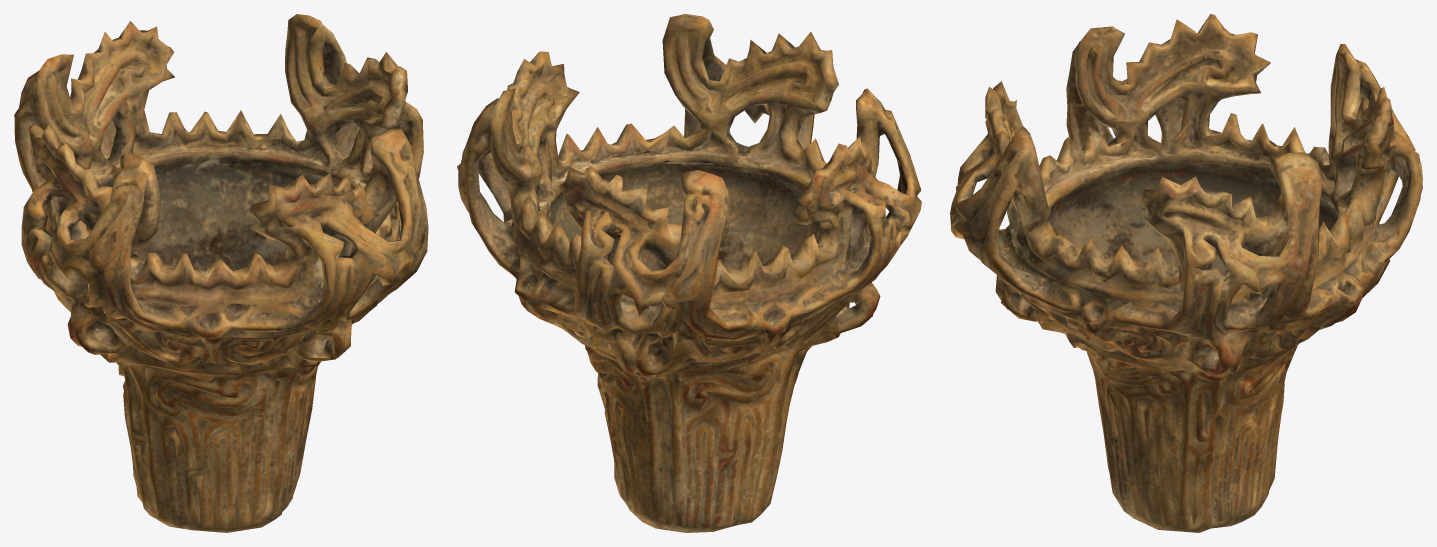
3 renders of one model, left to right at view 1: azimuth 30°, elevation 25°; view 2: azimuth 150°, elevation 25°; view 3: azimuth 270°, elevation 25°, orthographic.
Visible parts, largest first — view 1: UD0001_low; view 2: UD0001_low; view 3: UD0001_low.
Part boxes in pixels (box(x1,y1,x2,y2)): UD0001_low: box(14, 14, 428, 532); UD0001_low: box(457, 14, 921, 532); UD0001_low: box(950, 14, 1422, 532).
Bounding box in the file's own units: 296 × 295 × 300.
Materials: 1 (1 with a texture image).
